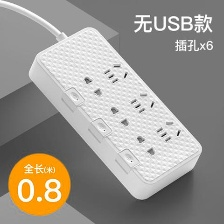three_eye_plug: (26, 21, 204, 203)
